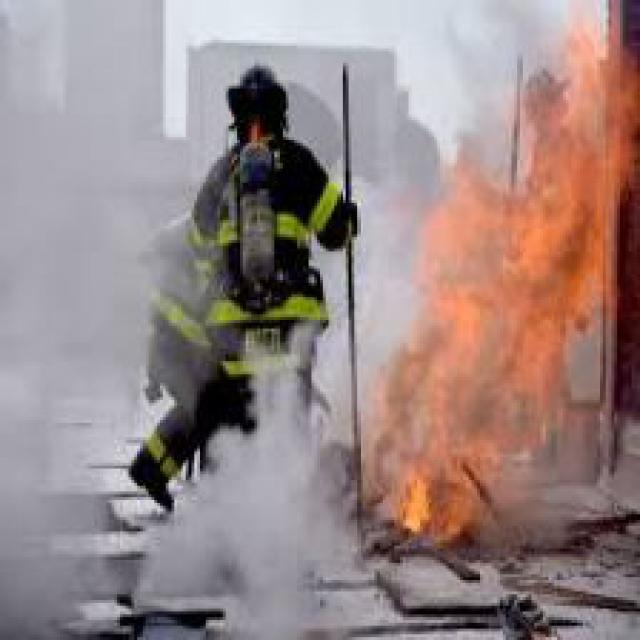fire: (366, 14, 637, 554)
